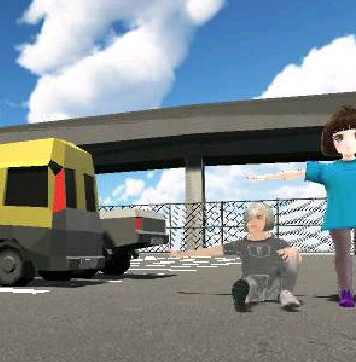doubleP_left: (168, 106, 356, 314)
